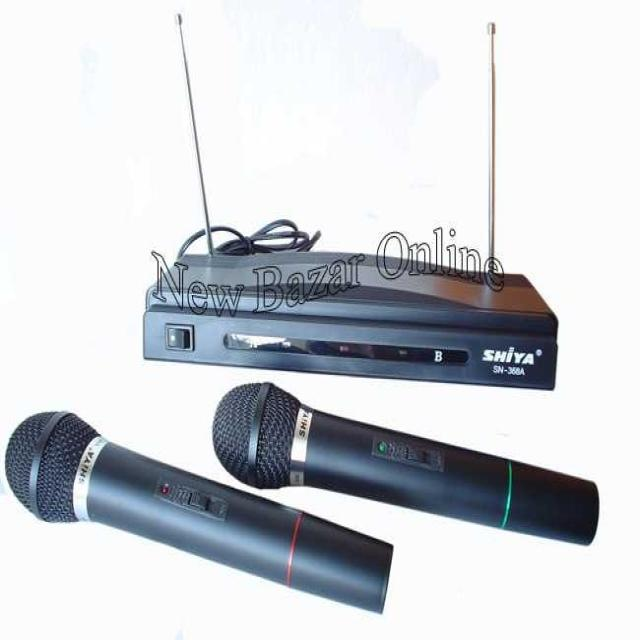microphone: (3, 406, 376, 614), (216, 377, 595, 549)
